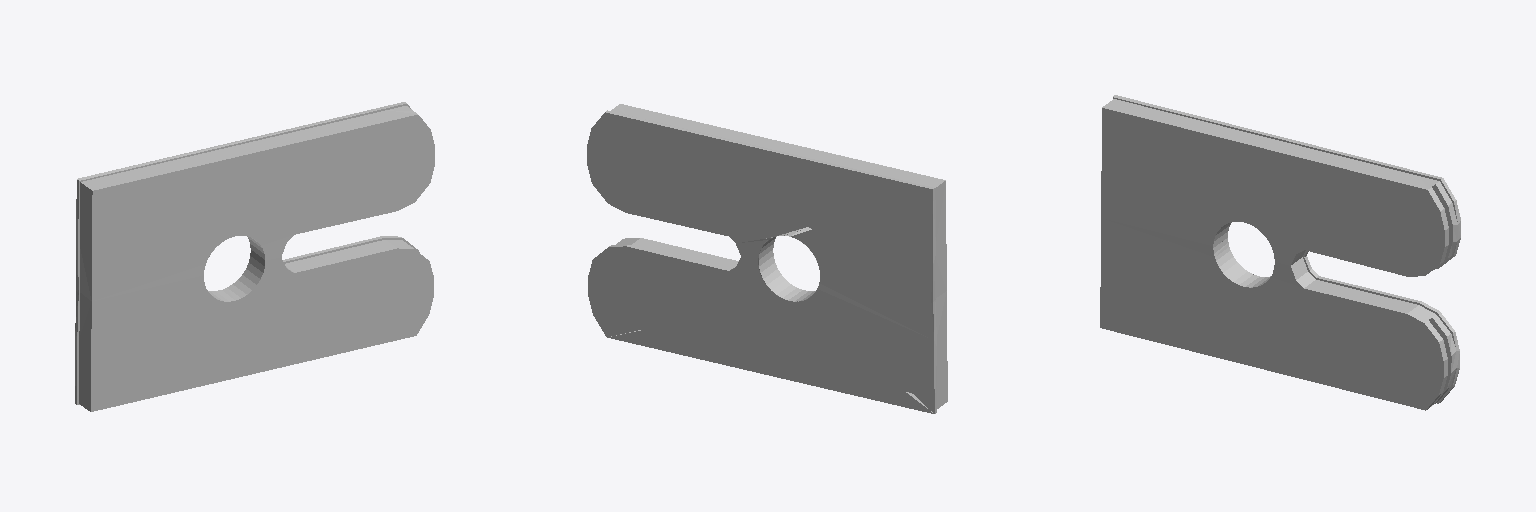
File: lower_hull_fin5.obj
3 renders of one model, left to right at view 1: azimuth 30°, elevation 25°; view 2: azimuth 150°, elevation 25°; view 3: azimuth 330°, elevation 25°, orthographic.
Visible parts, largest first — view 1: lower_hull_obj11.001; view 2: lower_hull_obj11.001; view 3: lower_hull_obj11.001.
Part boxes in pixels (x1,y1,x2,y2): lower_hull_obj11.001: (75, 102, 434, 411); lower_hull_obj11.001: (587, 104, 947, 413); lower_hull_obj11.001: (1100, 95, 1460, 410).
Size of the model in its own units: 0.601 by 0.3759 by 0.044.